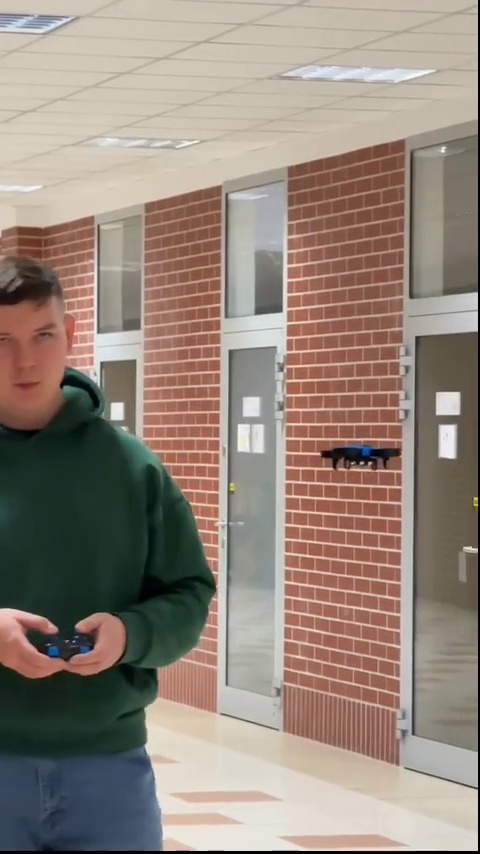drone: (321, 445, 404, 467)
no vest: (0, 252, 218, 848)
